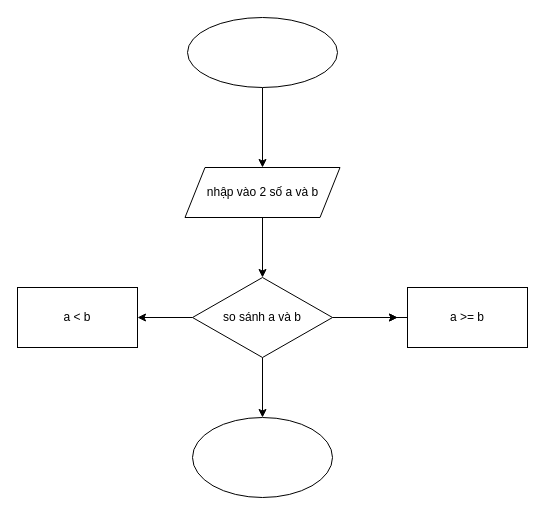
Image size: 545x515. Some labels were removed from this diagram. The shapes that lost their labels are listed below. From the top down, each one's centre as x and y in pixels, then its label:
(262,52): start
(262,457): end
